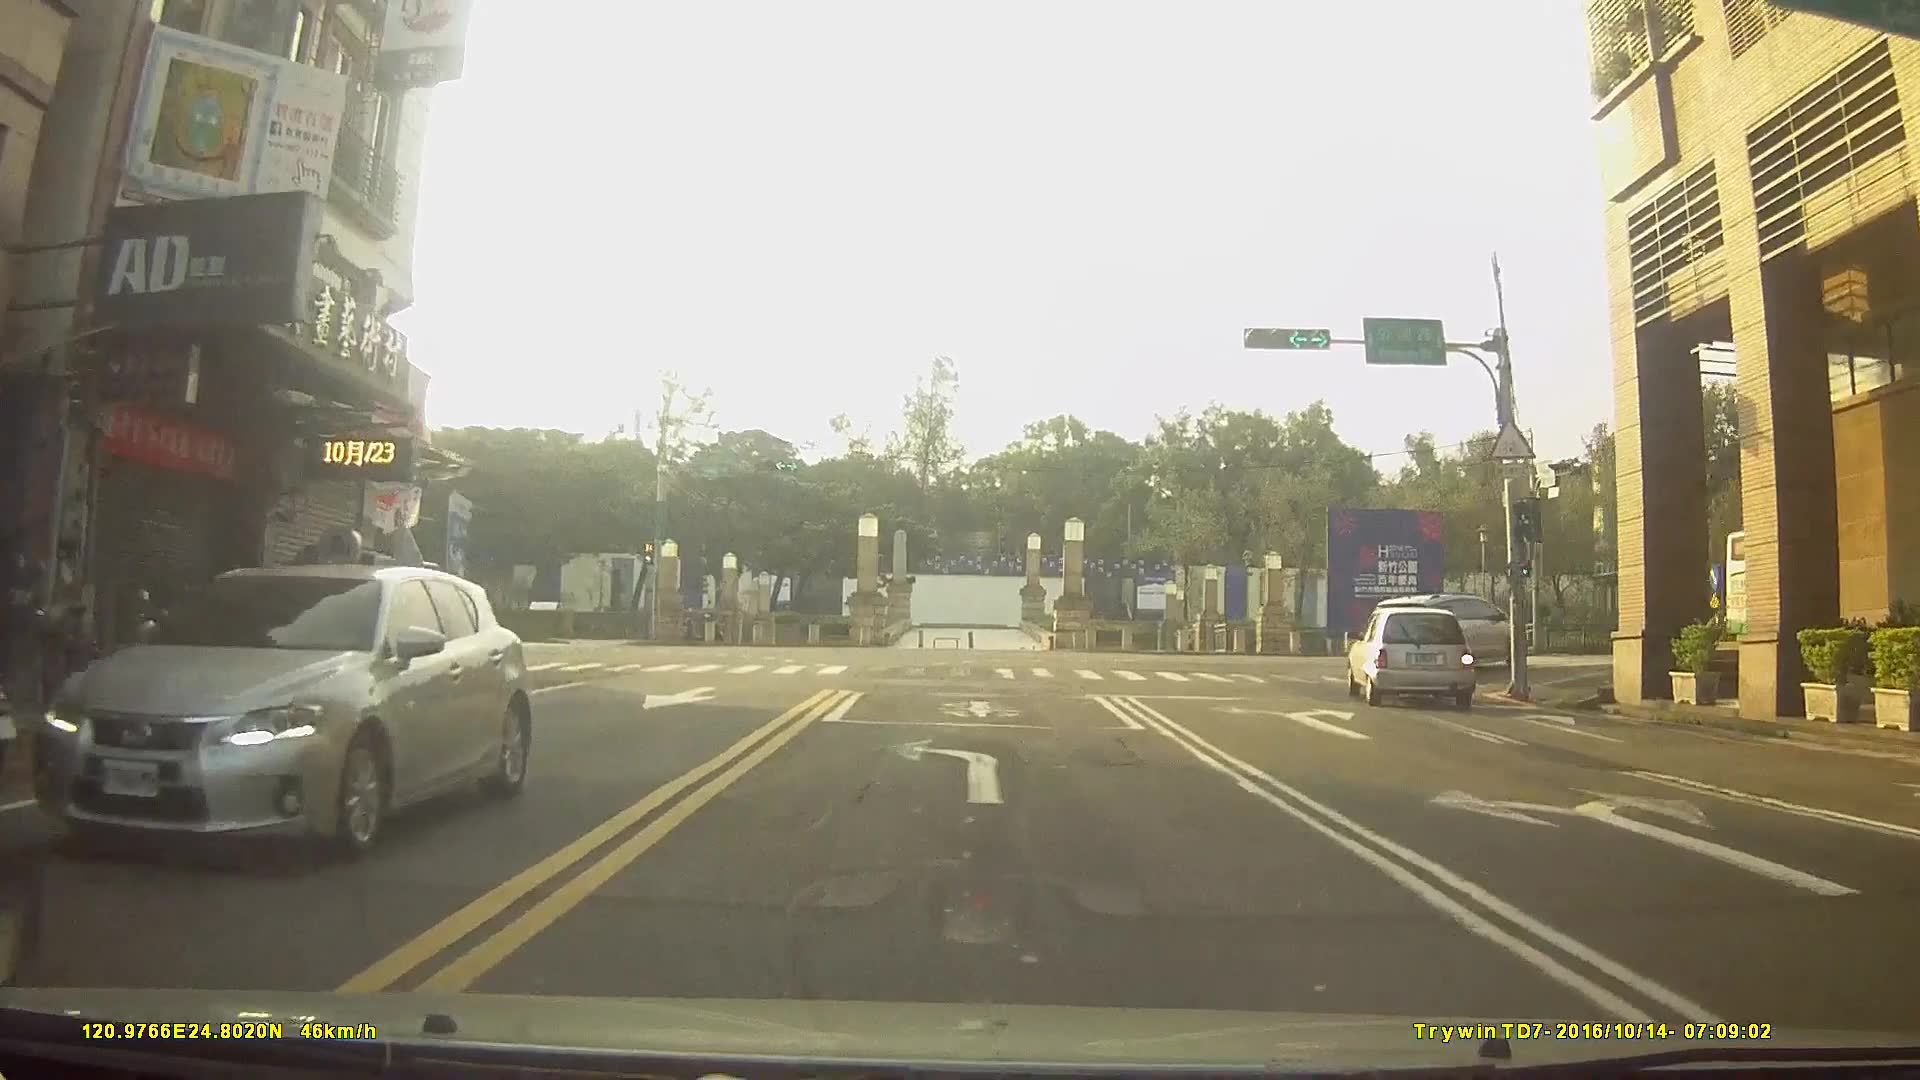vehicle: (28, 560, 531, 864), (1366, 592, 1530, 674), (1346, 607, 1476, 709)
